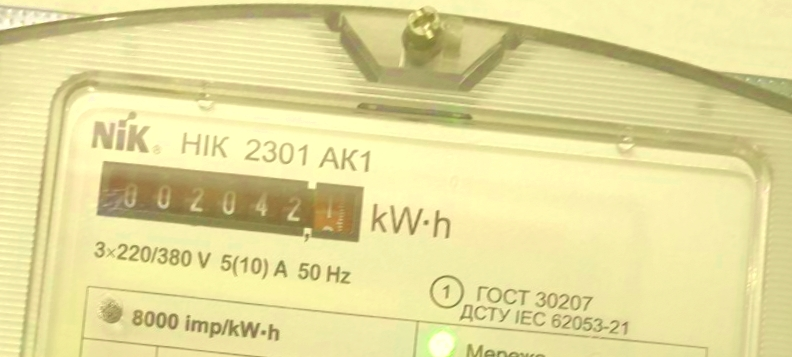0: (119, 179, 140, 211), (153, 181, 173, 214), (218, 187, 239, 218)
1: (320, 191, 337, 223)
2: (186, 185, 207, 216), (284, 194, 303, 224)
4: (251, 188, 272, 221)
screen: (91, 157, 370, 253)
